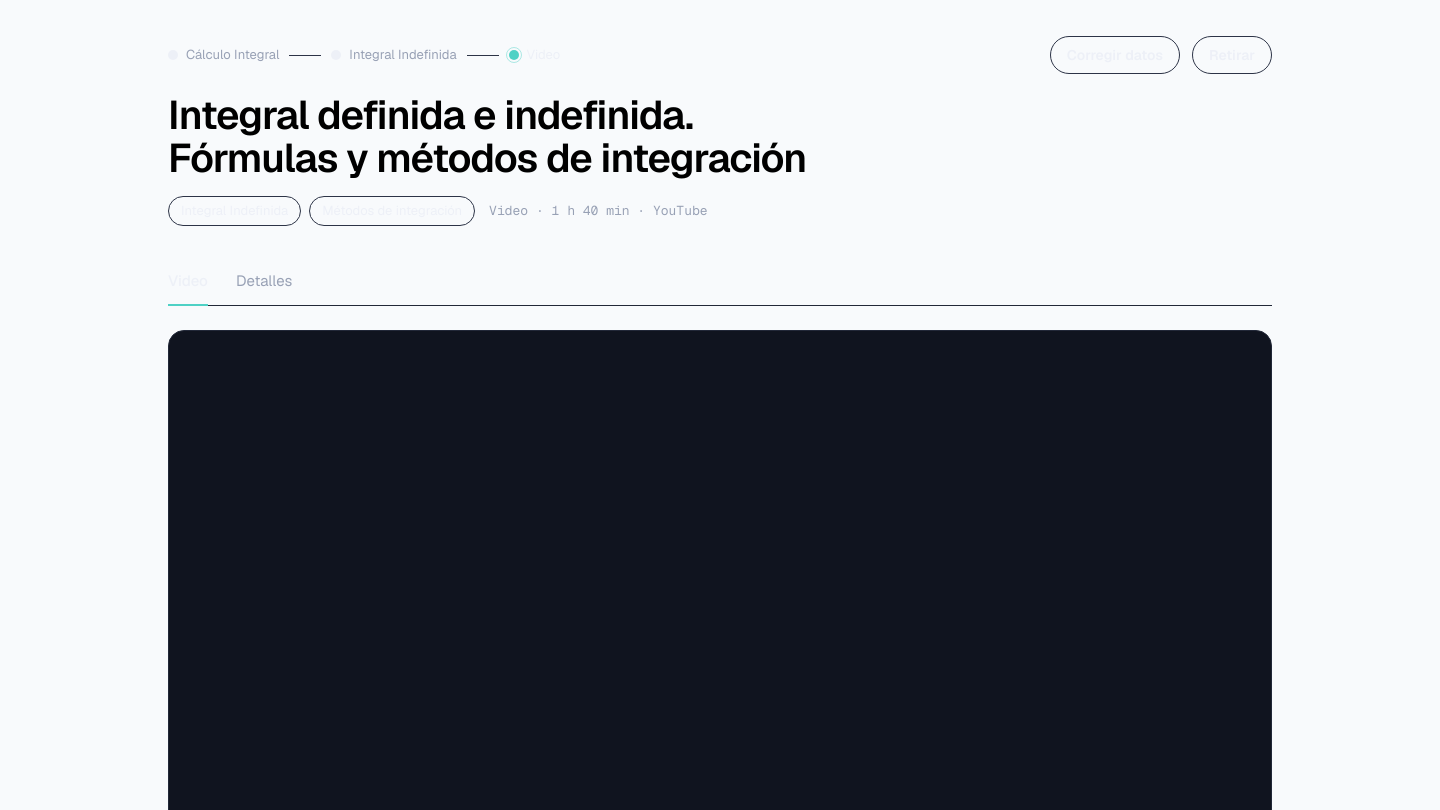
it: ResourceDetailPage: retirar y volver a publicar › si la API rechaza el retiro por autoría, lo dice y recarga la ficha
Click the button "Retirar". click: (1232, 55)
box: [1192, 36, 1272, 74]
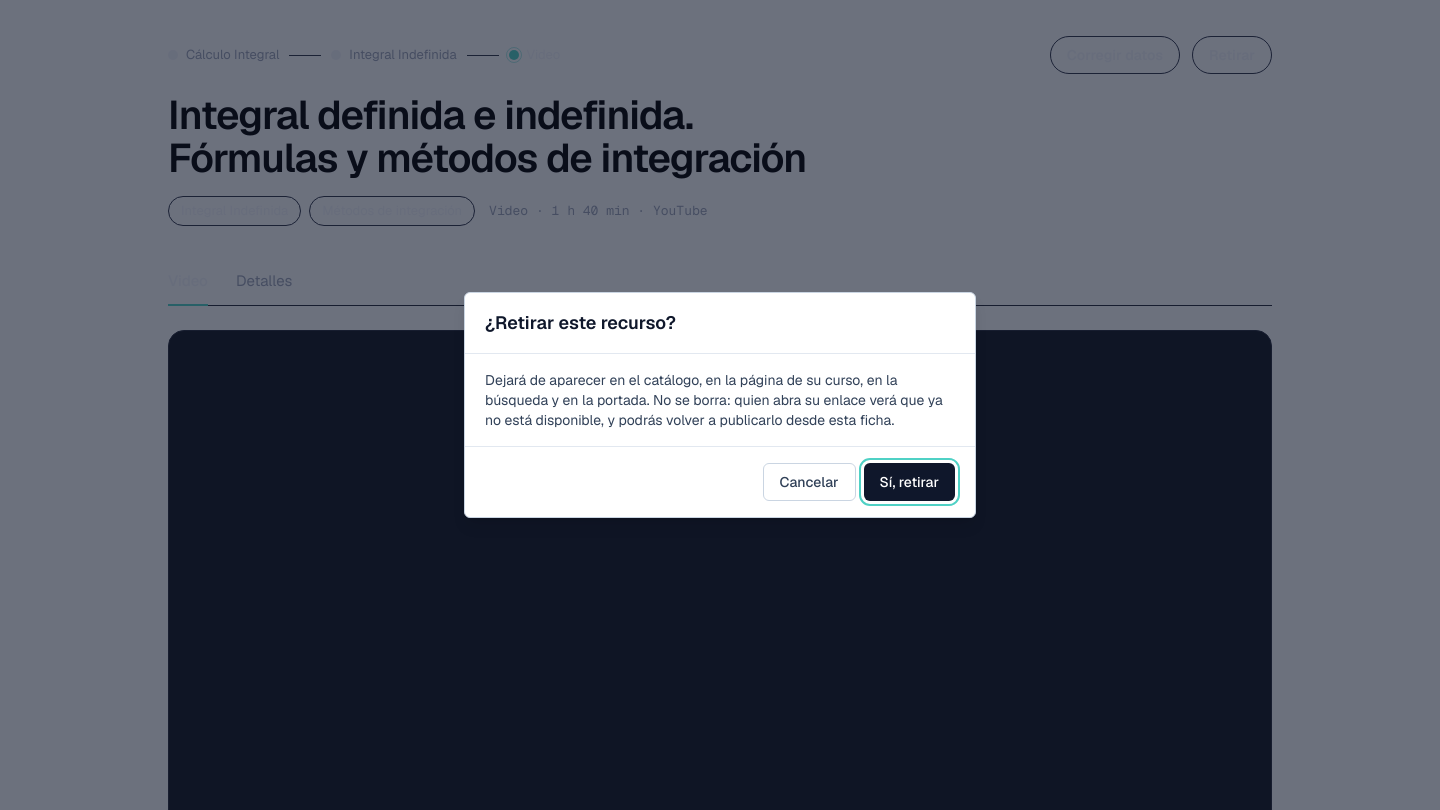
Click the button "Sí, retirar". click: (909, 482)
box: [864, 463, 955, 501]
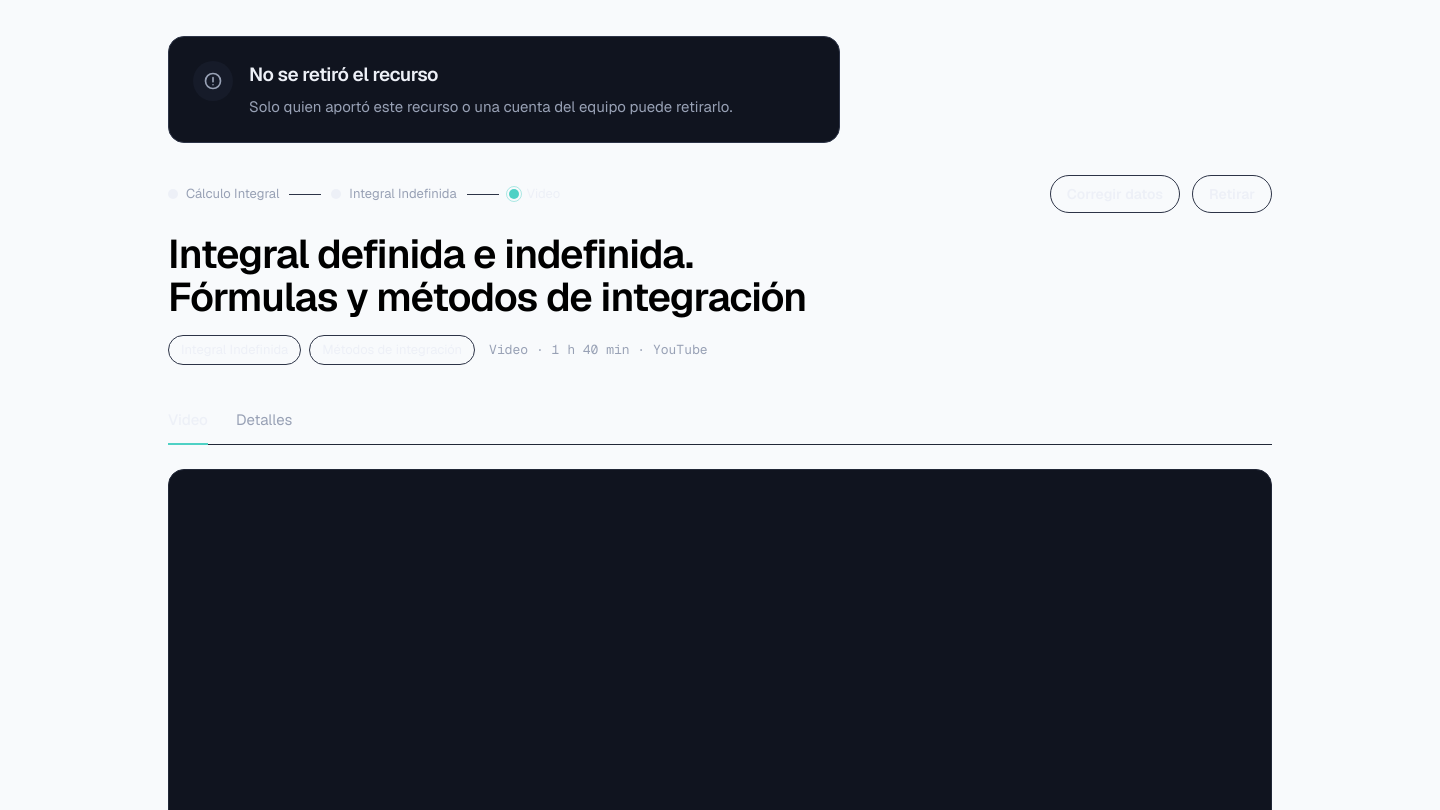
expect the message shows "No se retiró el recurso": met, box [249, 62, 438, 87]
expect the message shows "Solo quien aportó este recurso o una cuenta del equipo puede retirarlo.": met, box [249, 96, 732, 116]
